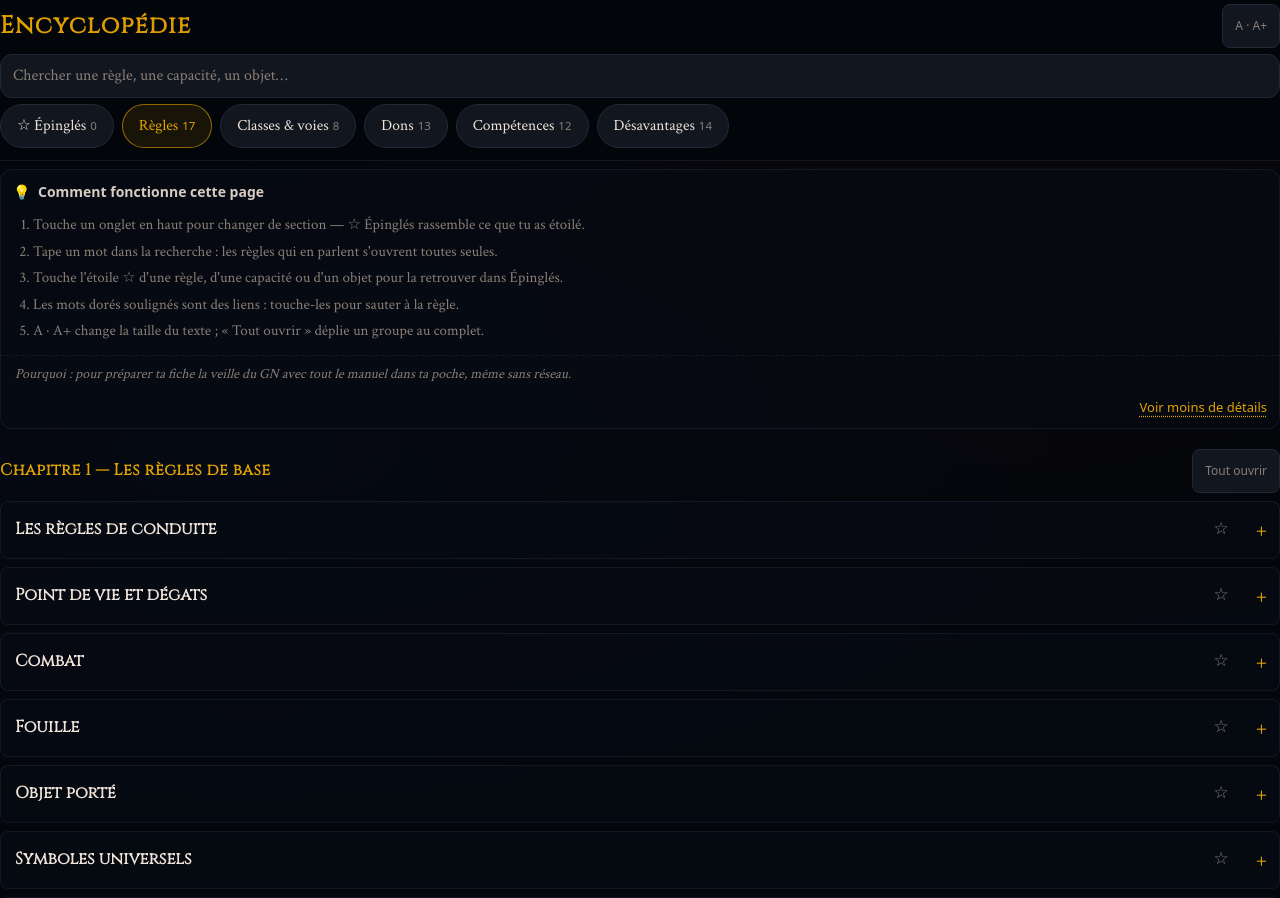
épinglage › la ☆ bascule, compte, persiste et remplit l’onglet Épinglés
Expected: the button "☆ Épinglés0" is shown, x1=0 y1=104 x2=114 y2=148
Click the 1st button "☆" at (1221, 530), box x1=1199 y1=508 x2=1243 y2=552
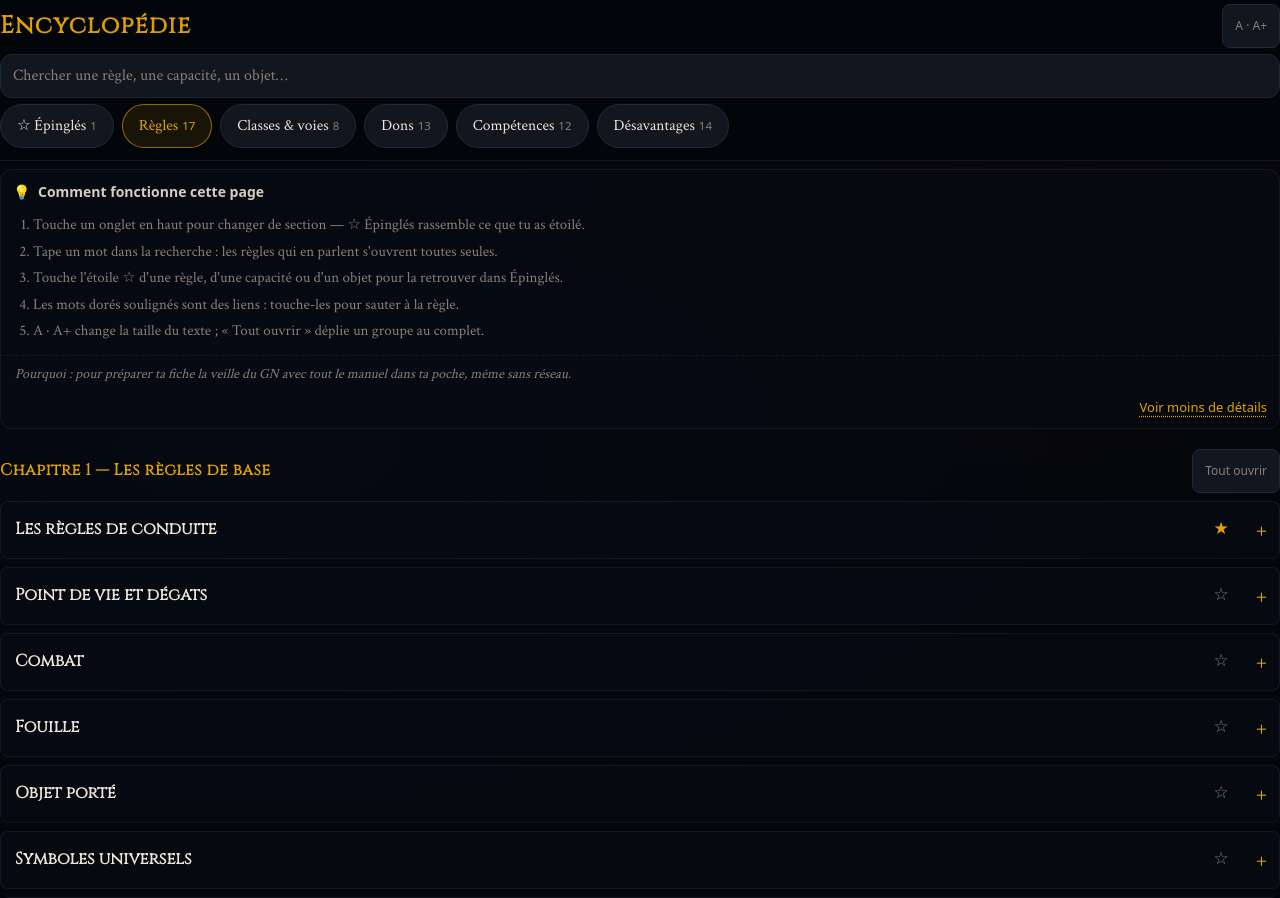
Result: the button "☆ Épinglés1" is shown
Click the button "☆ Épinglés1" at (57, 126), box x1=0 y1=104 x2=114 y2=148
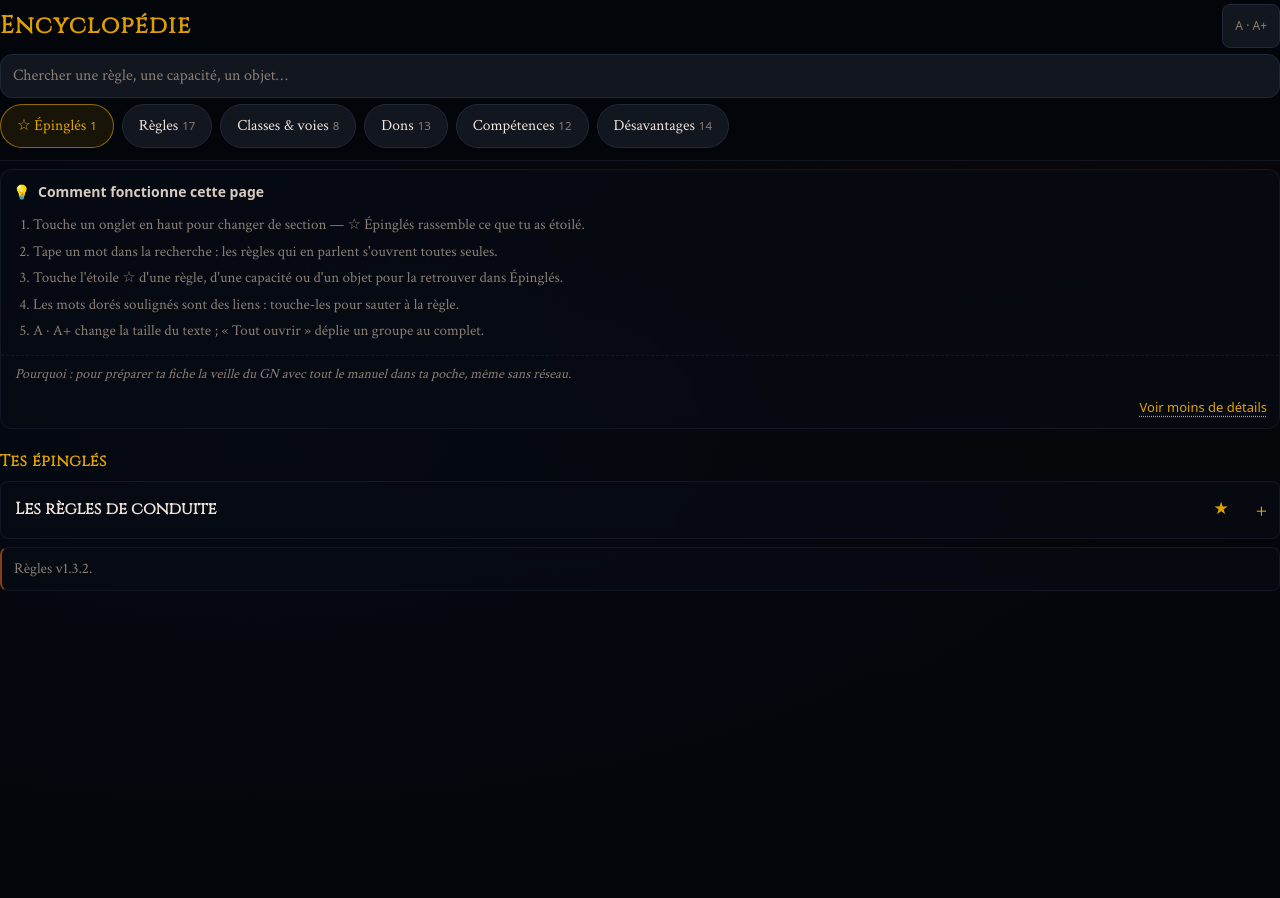
Click the button "★" at (1221, 510), box x1=1199 y1=488 x2=1243 y2=532
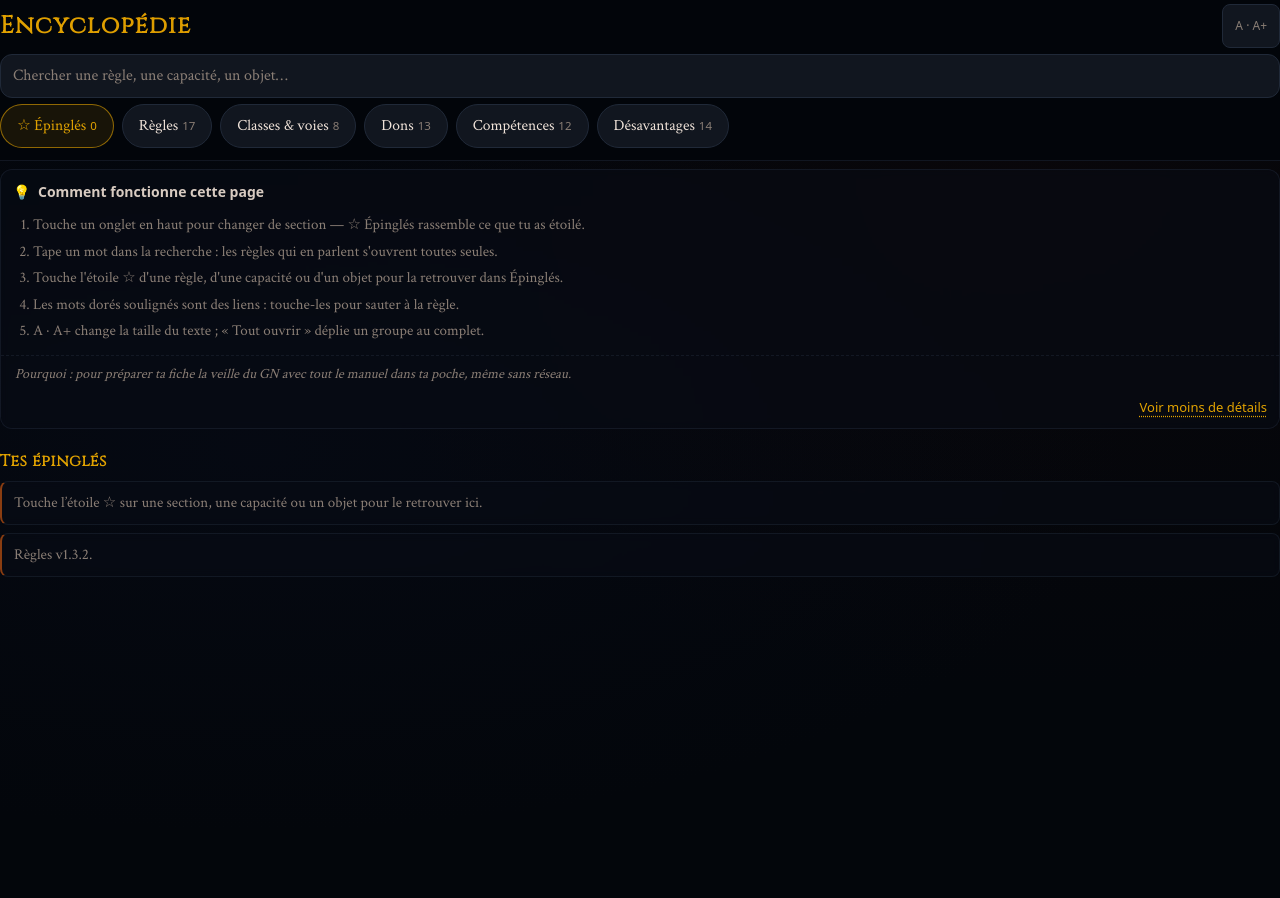
Result: the text "Touche l’étoile" is shown at x1=14 y1=492 x2=482 y2=512
